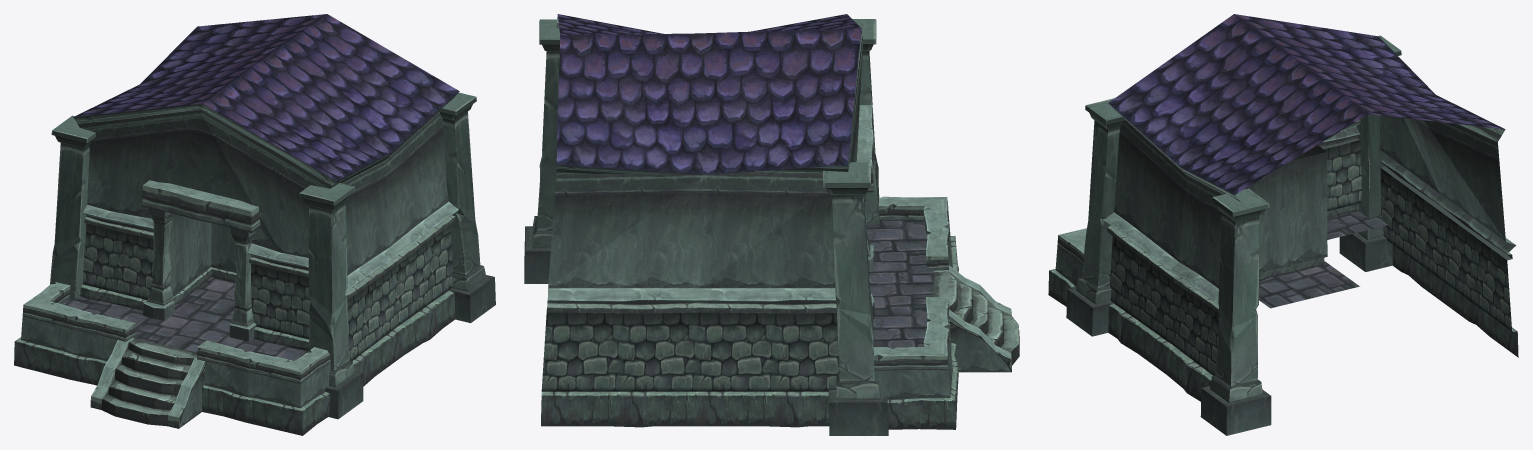
Rendered from building_mausoleum.fbx.
The picture shows the model from 3 angles, left to right: view 1: azimuth 30°, elevation 25°; view 2: azimuth 150°, elevation 25°; view 3: azimuth 270°, elevation 25°; orthographic projection. The views are drawn at different scales.
Visible parts, largest first — view 1: obj5.002; view 2: obj5.002; view 3: obj5.002.
Part boxes in pixels (x1,y1,x2,y2): obj5.002: (14, 14, 495, 435); obj5.002: (524, 14, 1019, 435); obj5.002: (1048, 14, 1518, 435).
Size of the model in its own units: 11.35 by 6.88 by 10.6.
